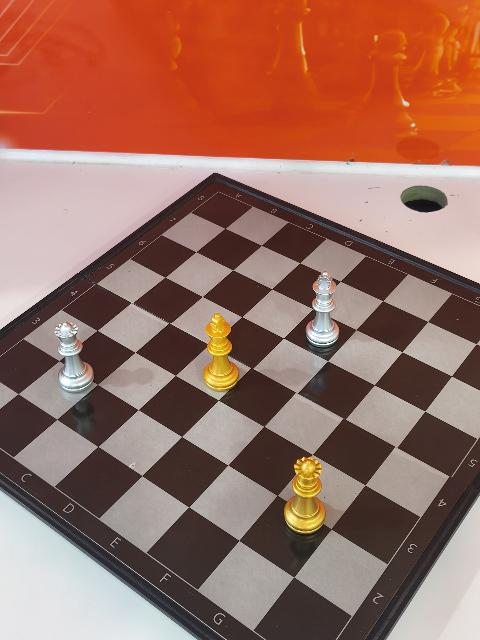black_king: (202, 314, 240, 393)
black_queen: (283, 456, 327, 535)
white_king: (306, 271, 341, 349)
white_queen: (56, 321, 94, 394)
